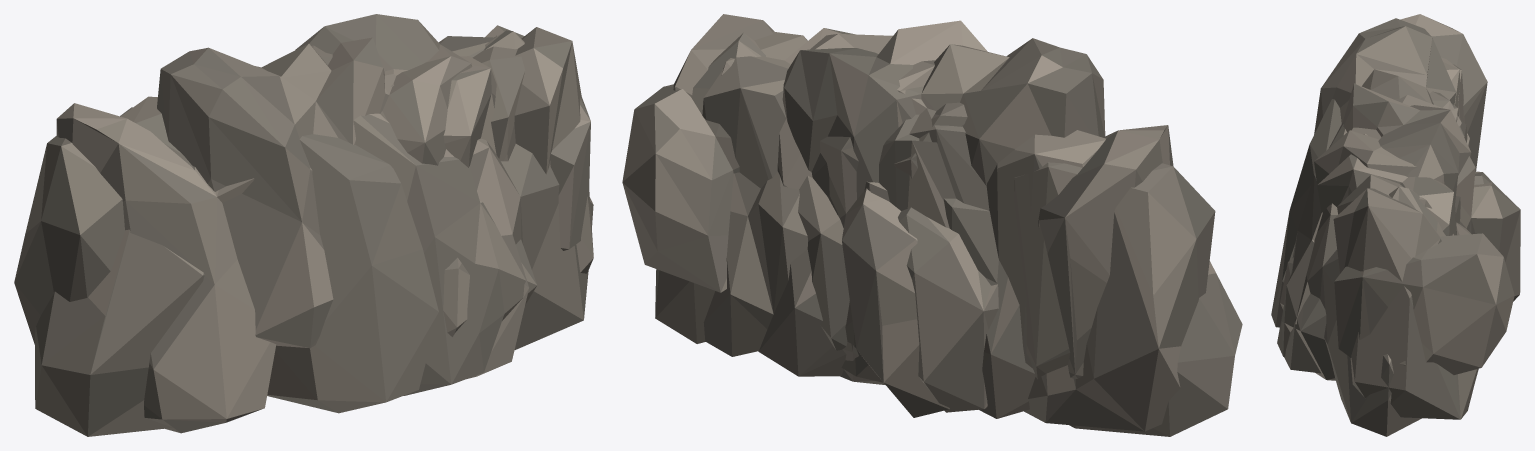
The model's file is каміння.fbx.
The picture shows the model from 3 angles, left to right: view 1: azimuth 30°, elevation 25°; view 2: azimuth 150°, elevation 25°; view 3: azimuth 270°, elevation 25°; orthographic projection. The views are drawn at different scales.
Visible parts, largest first — view 1: Куб.018, Куб.012, Куб.022, Куб.021, Куб.023; view 2: Куб.012, Куб.023, Куб.022, Куб.018, Куб.021; view 3: Куб.012, Куб.021, Куб.022, Куб.018, Куб.023.
Part boxes in pixels (x1,y1,x2,y2): Куб.018: [56, 35, 537, 433]; Куб.012: [157, 14, 590, 348]; Куб.022: [35, 44, 593, 436]; Куб.021: [120, 27, 593, 413]; Куб.023: [14, 36, 496, 344]; Куб.012: [622, 20, 1105, 292]; Куб.023: [702, 28, 1215, 431]; Куб.022: [758, 34, 1242, 436]; Куб.018: [703, 31, 1173, 418]; Куб.021: [655, 14, 1082, 412]; Куб.012: [1314, 18, 1514, 374]; Куб.021: [1271, 64, 1493, 419]; Куб.022: [1284, 57, 1520, 436]; Куб.018: [1277, 14, 1487, 380]; Куб.023: [1280, 91, 1471, 309].
Bounding box in the file's own units: 1795 × 1087 × 865.
